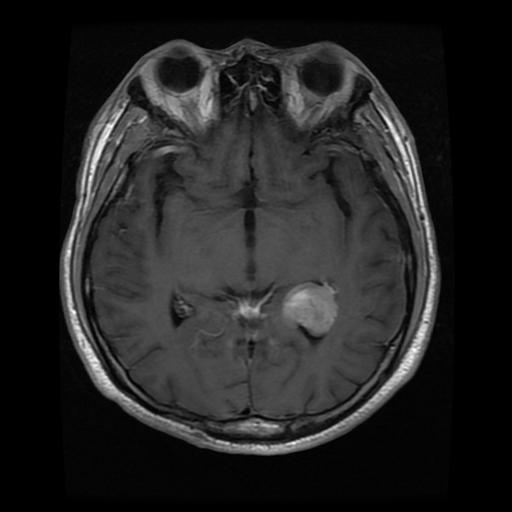Menigiomia_tumour: (279, 280, 336, 336)
